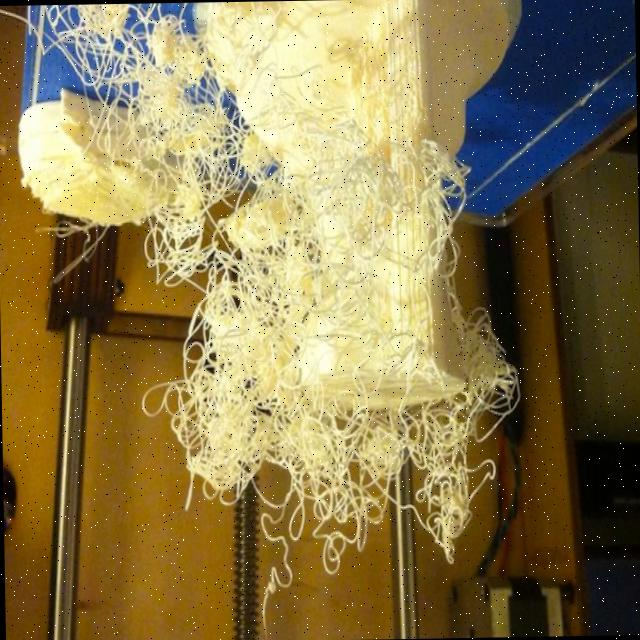spaghetti: (154, 163, 528, 610), (28, 2, 260, 266)
